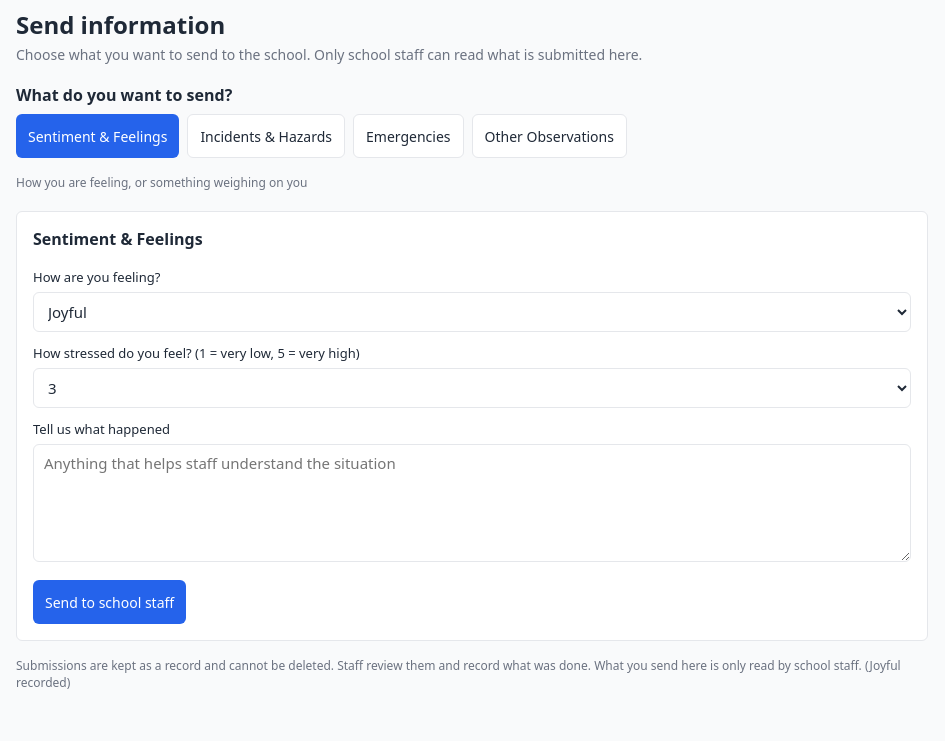
Submit › refuses a message that is too short
The image size is (945, 741).
expect the button "Sentiment & Feelings" is shown: met, box [16, 114, 179, 158]
Type "x" into the text box labelled "Tell us what happened" at point(472, 503), box [33, 444, 911, 562]
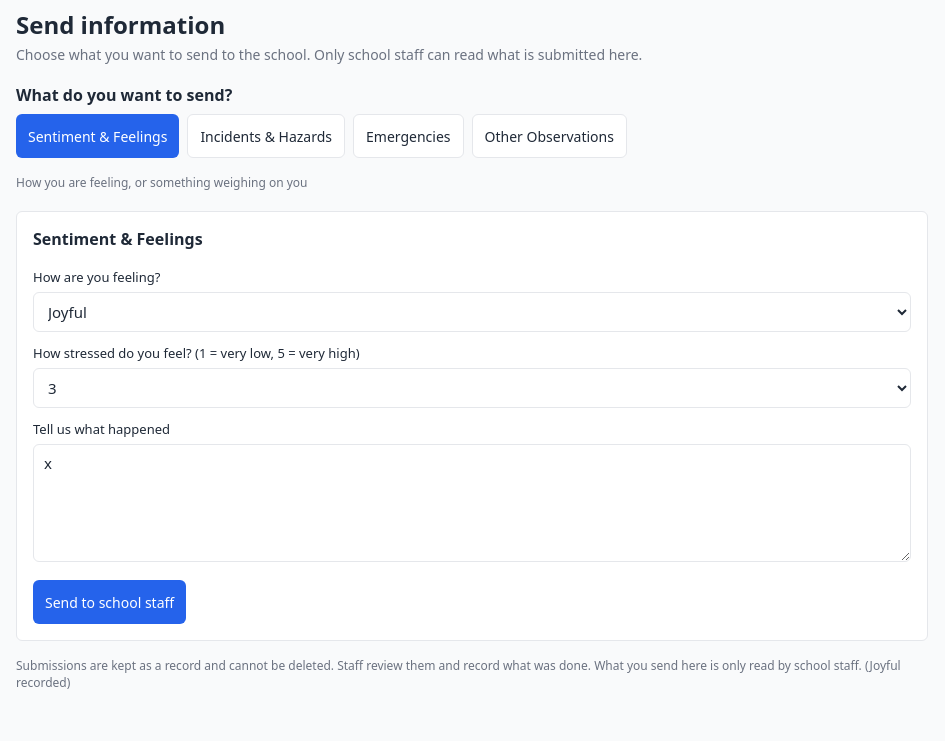
Click the button "Send to school staff" at point(110, 602), box [33, 580, 186, 624]
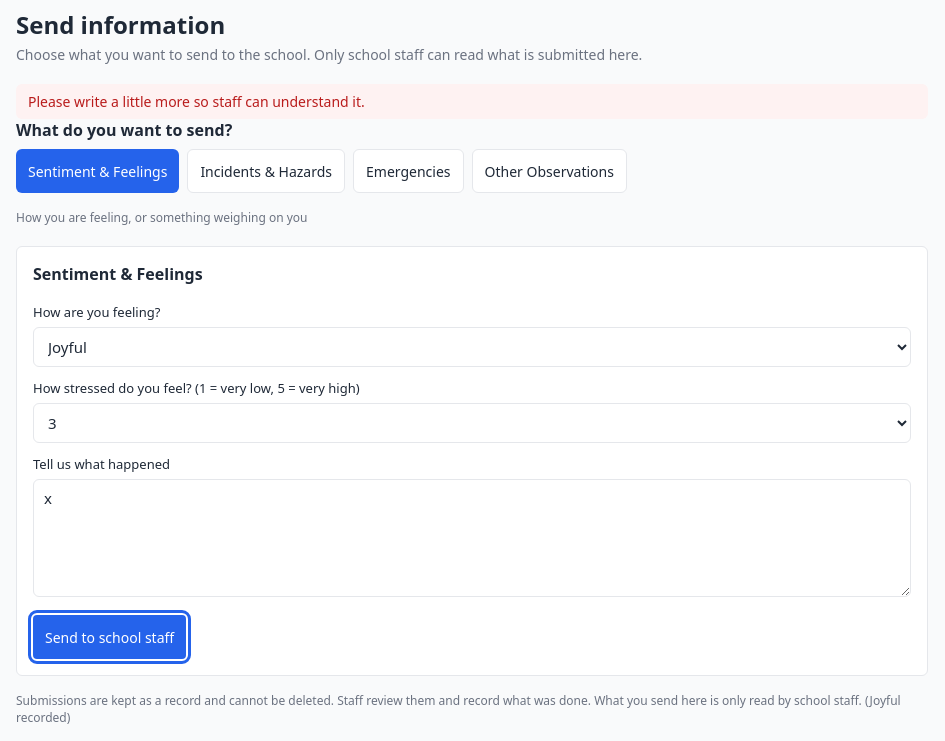
expect the message shows "write a little more": met, box [28, 92, 365, 111]
